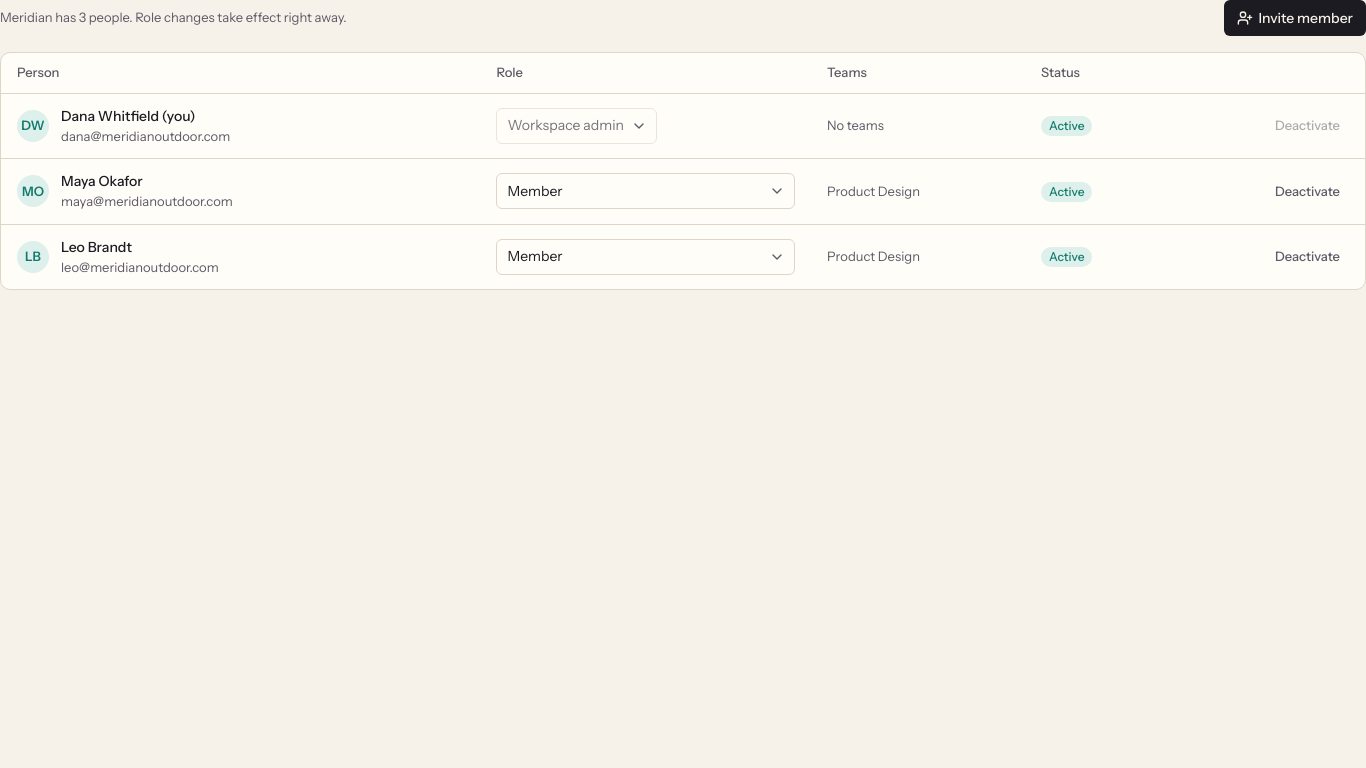
Test: MembersTab › confirms before deactivating and shows a blocked-lead error
This screenshot has width=1366, height=768.
Click the button with aria-label "Deactivate Maya Okafor" at (1307, 191), box [1266,177,1349,205]
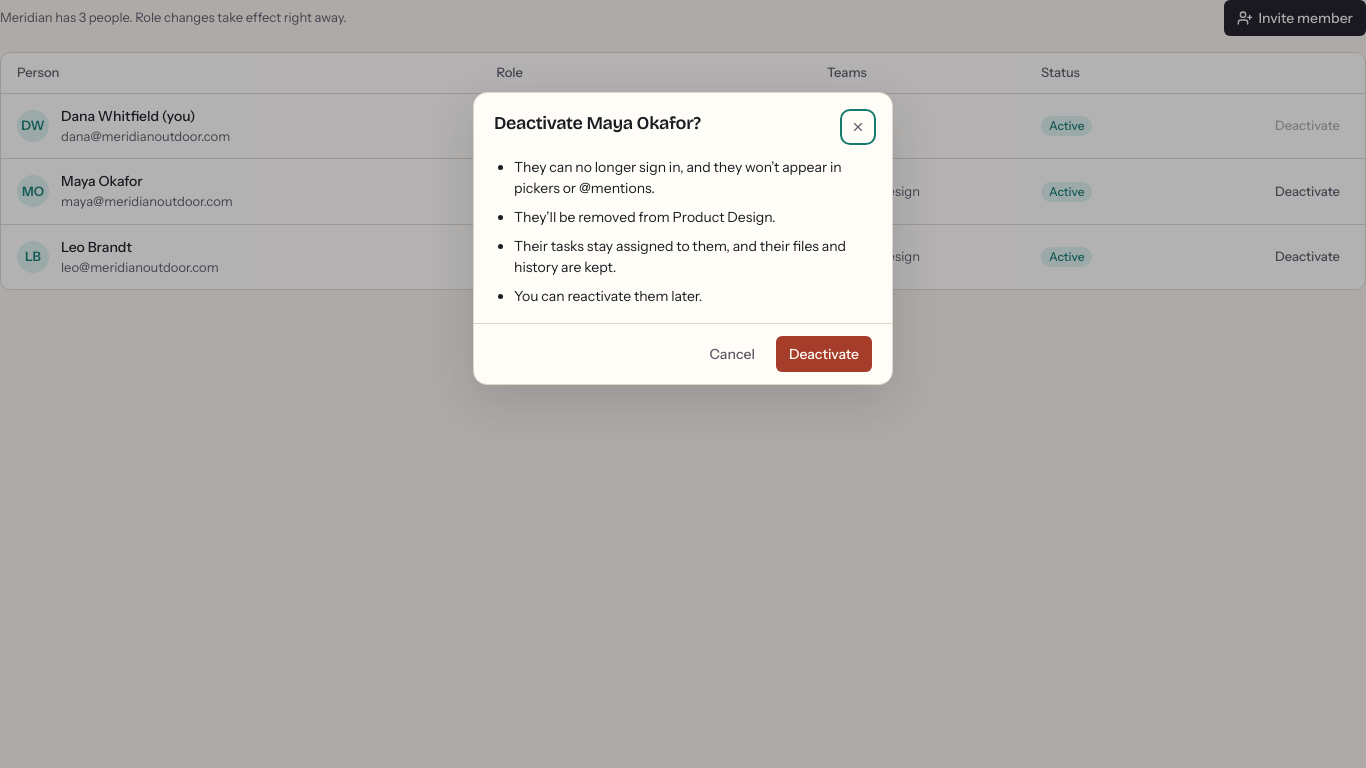
Expected: the list item "They’ll be removed from Product Design." is shown, [514,208,776,226]
Click the button "Deactivate" at (824, 354), box [776,336,872,372]
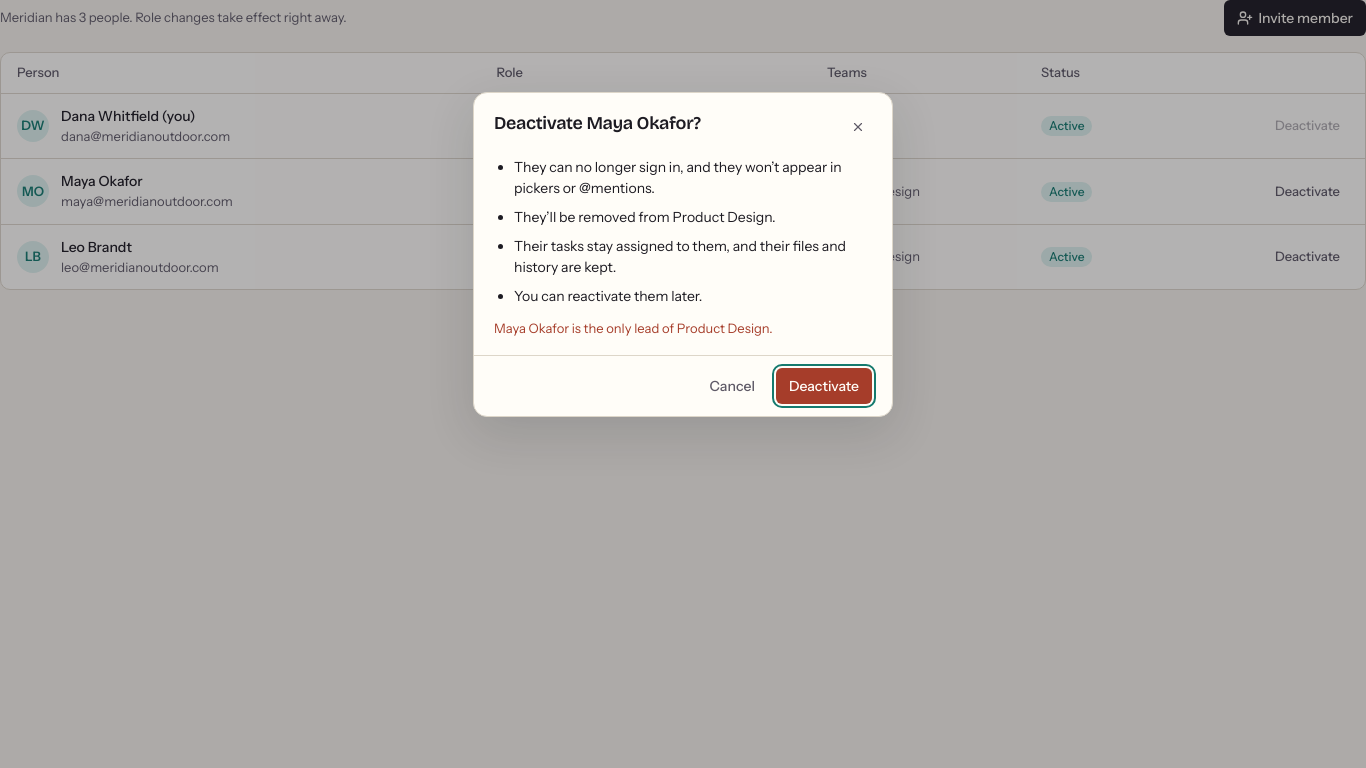
Expected: the message shows "only lead of Product Design", [494,320,772,336]
